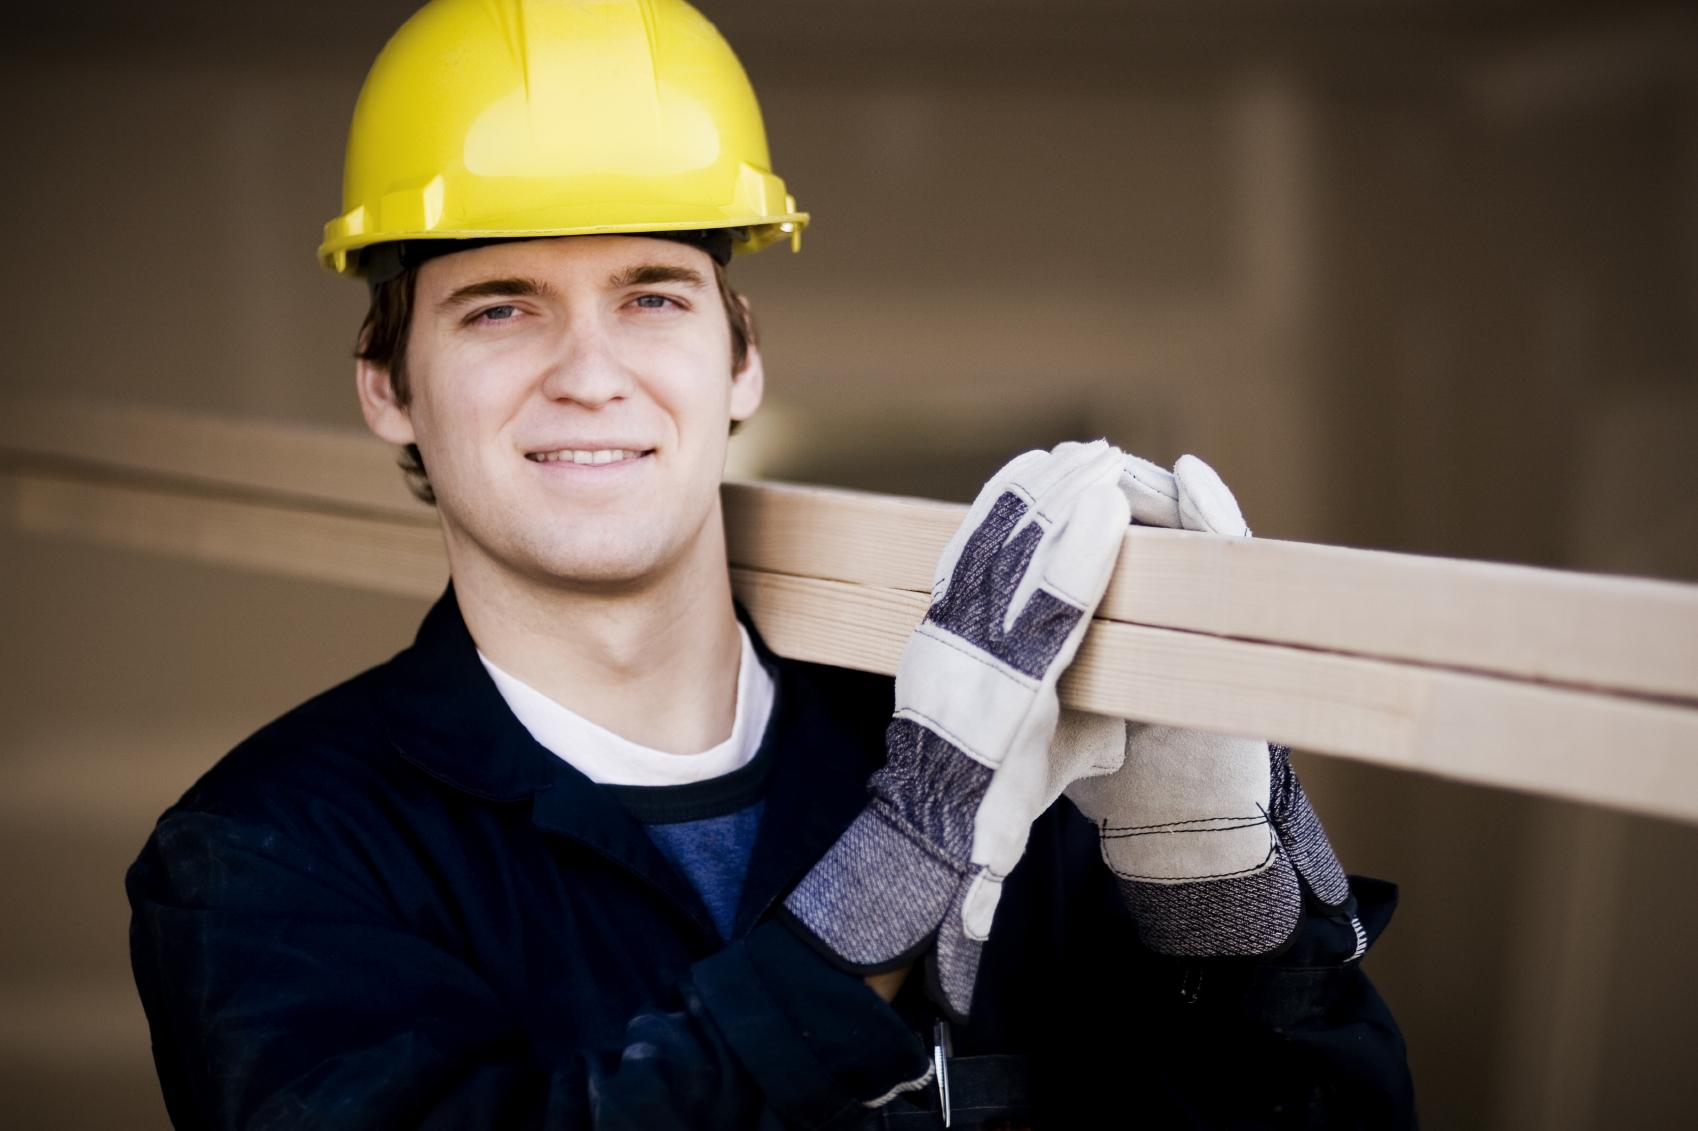helmet: (309, 1, 850, 297)
